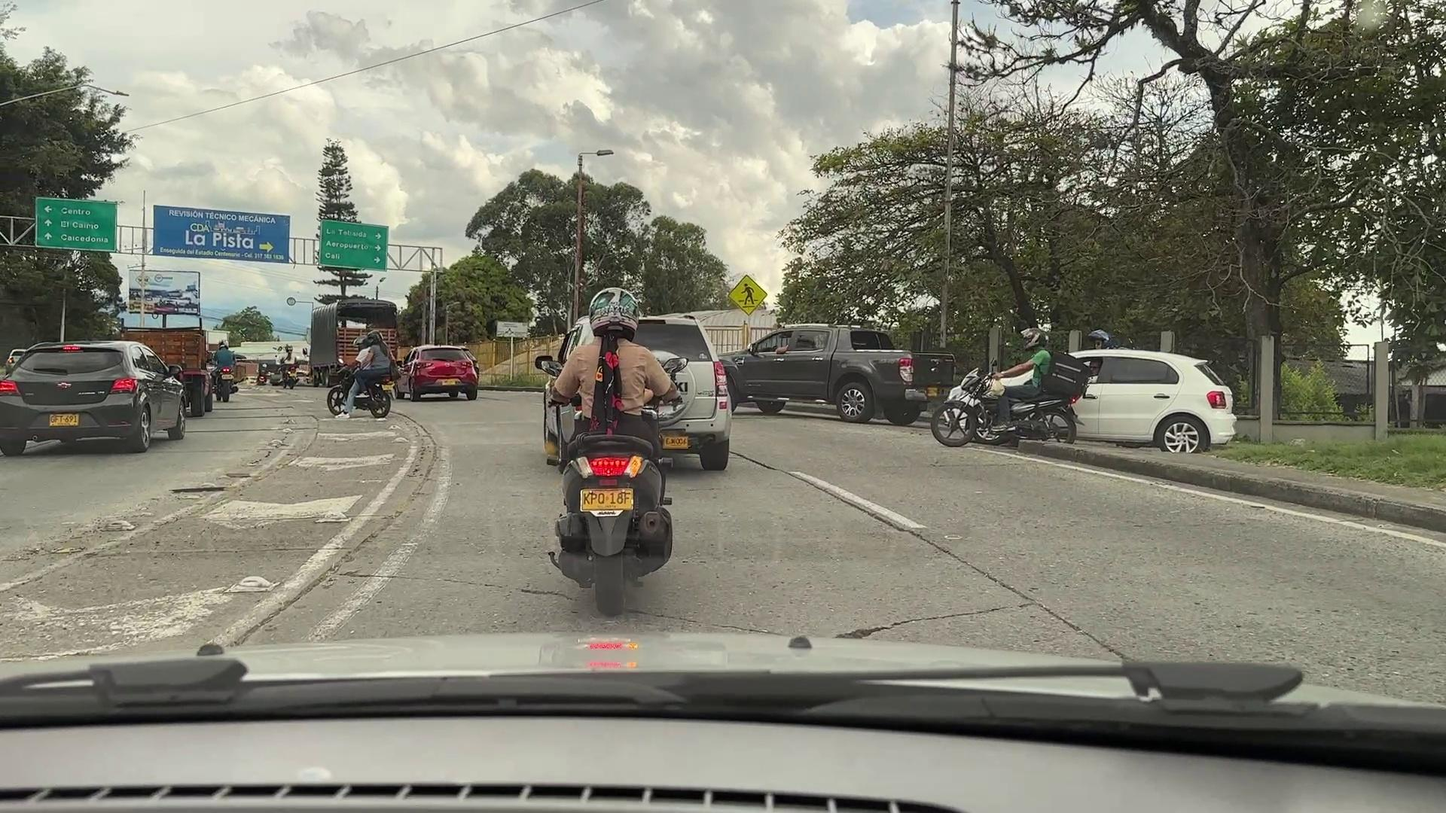grieta: (625, 609, 781, 635), (837, 621, 913, 638), (519, 588, 572, 600)
